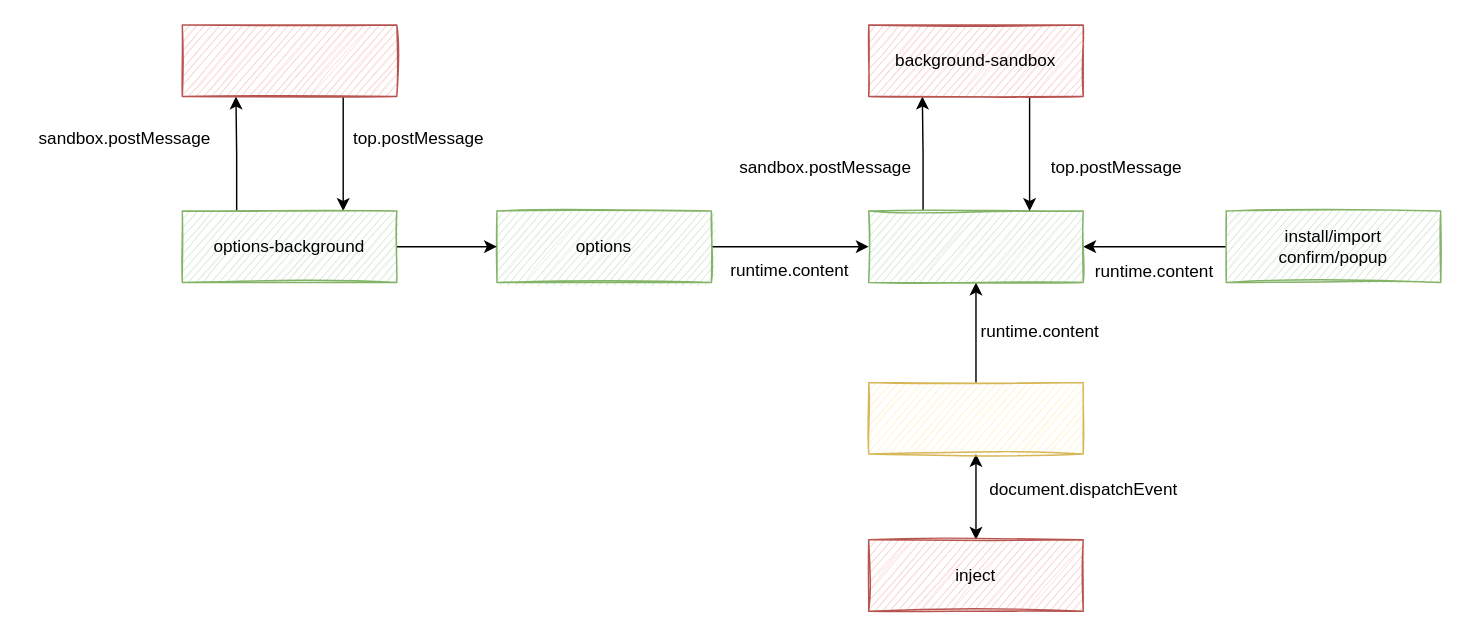
This 1466x636 diagram has some shape labels left out. The shapes that lost their labels are listed below. From the top down, each one's centre as x and y in pixels, then its label:
At pixel 289 60: "options-sandbox".
At pixel 975 245: "background".
At pixel 975 417: "content".
